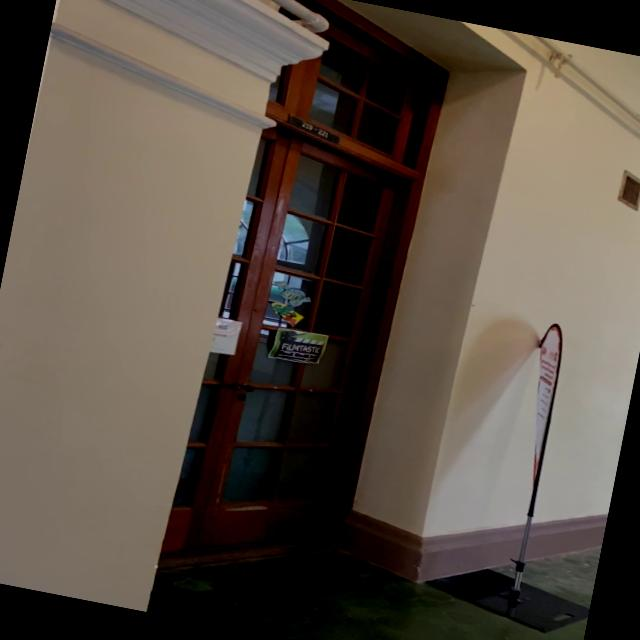room221: (286, 114, 342, 146)
